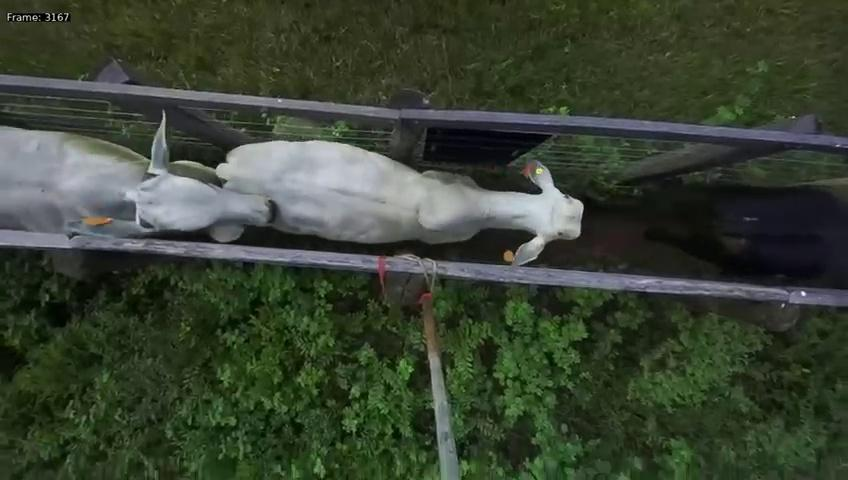cattle: (213, 106, 588, 265), (0, 101, 286, 243)
